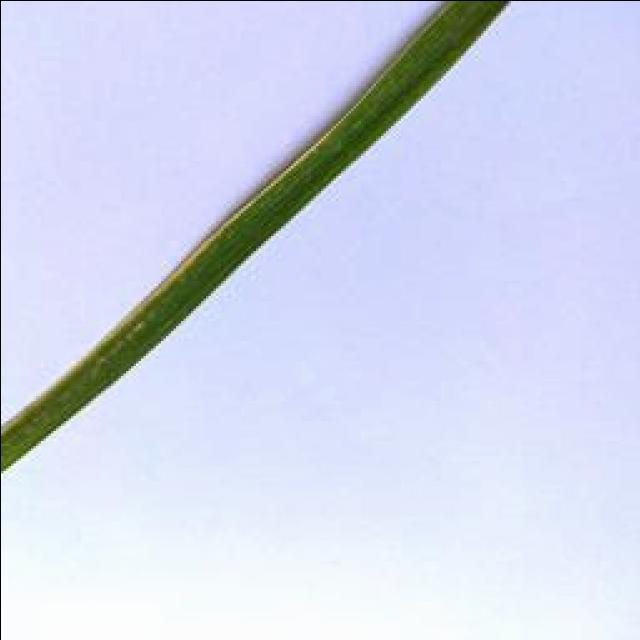Unhealthy: (107, 71, 387, 338)
